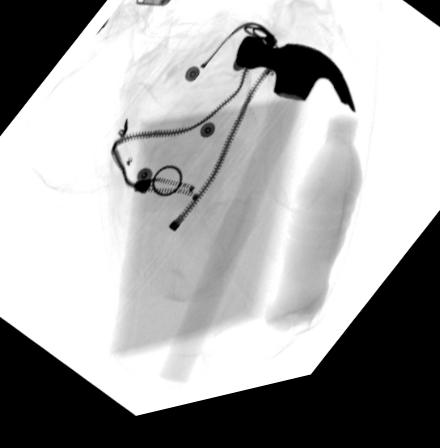Hammer: (157, 46, 357, 390)
